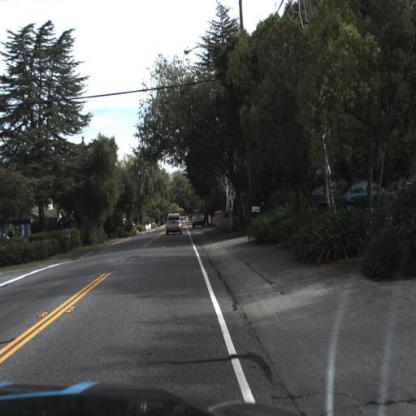car: (330, 176, 399, 214), (335, 178, 400, 206), (310, 179, 350, 213), (163, 212, 183, 235), (192, 208, 207, 231)
